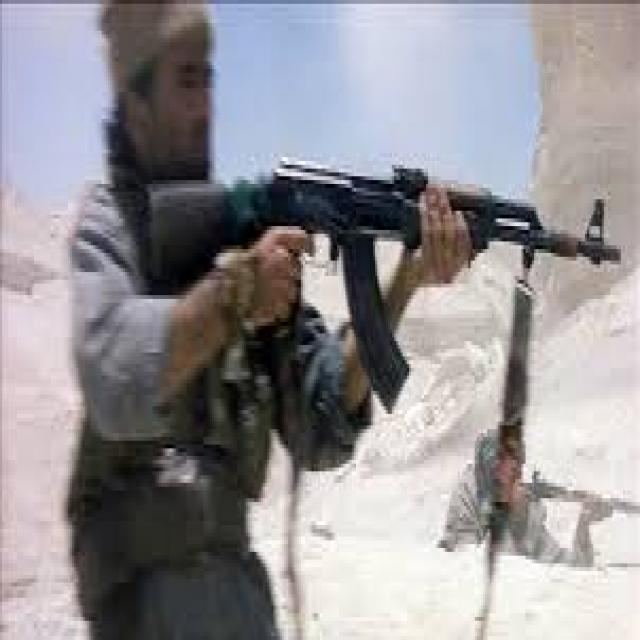weapon: (142, 148, 620, 422)
